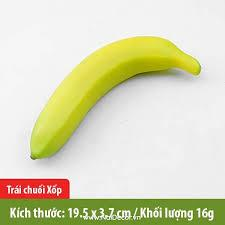banana: (27, 34, 203, 163)
